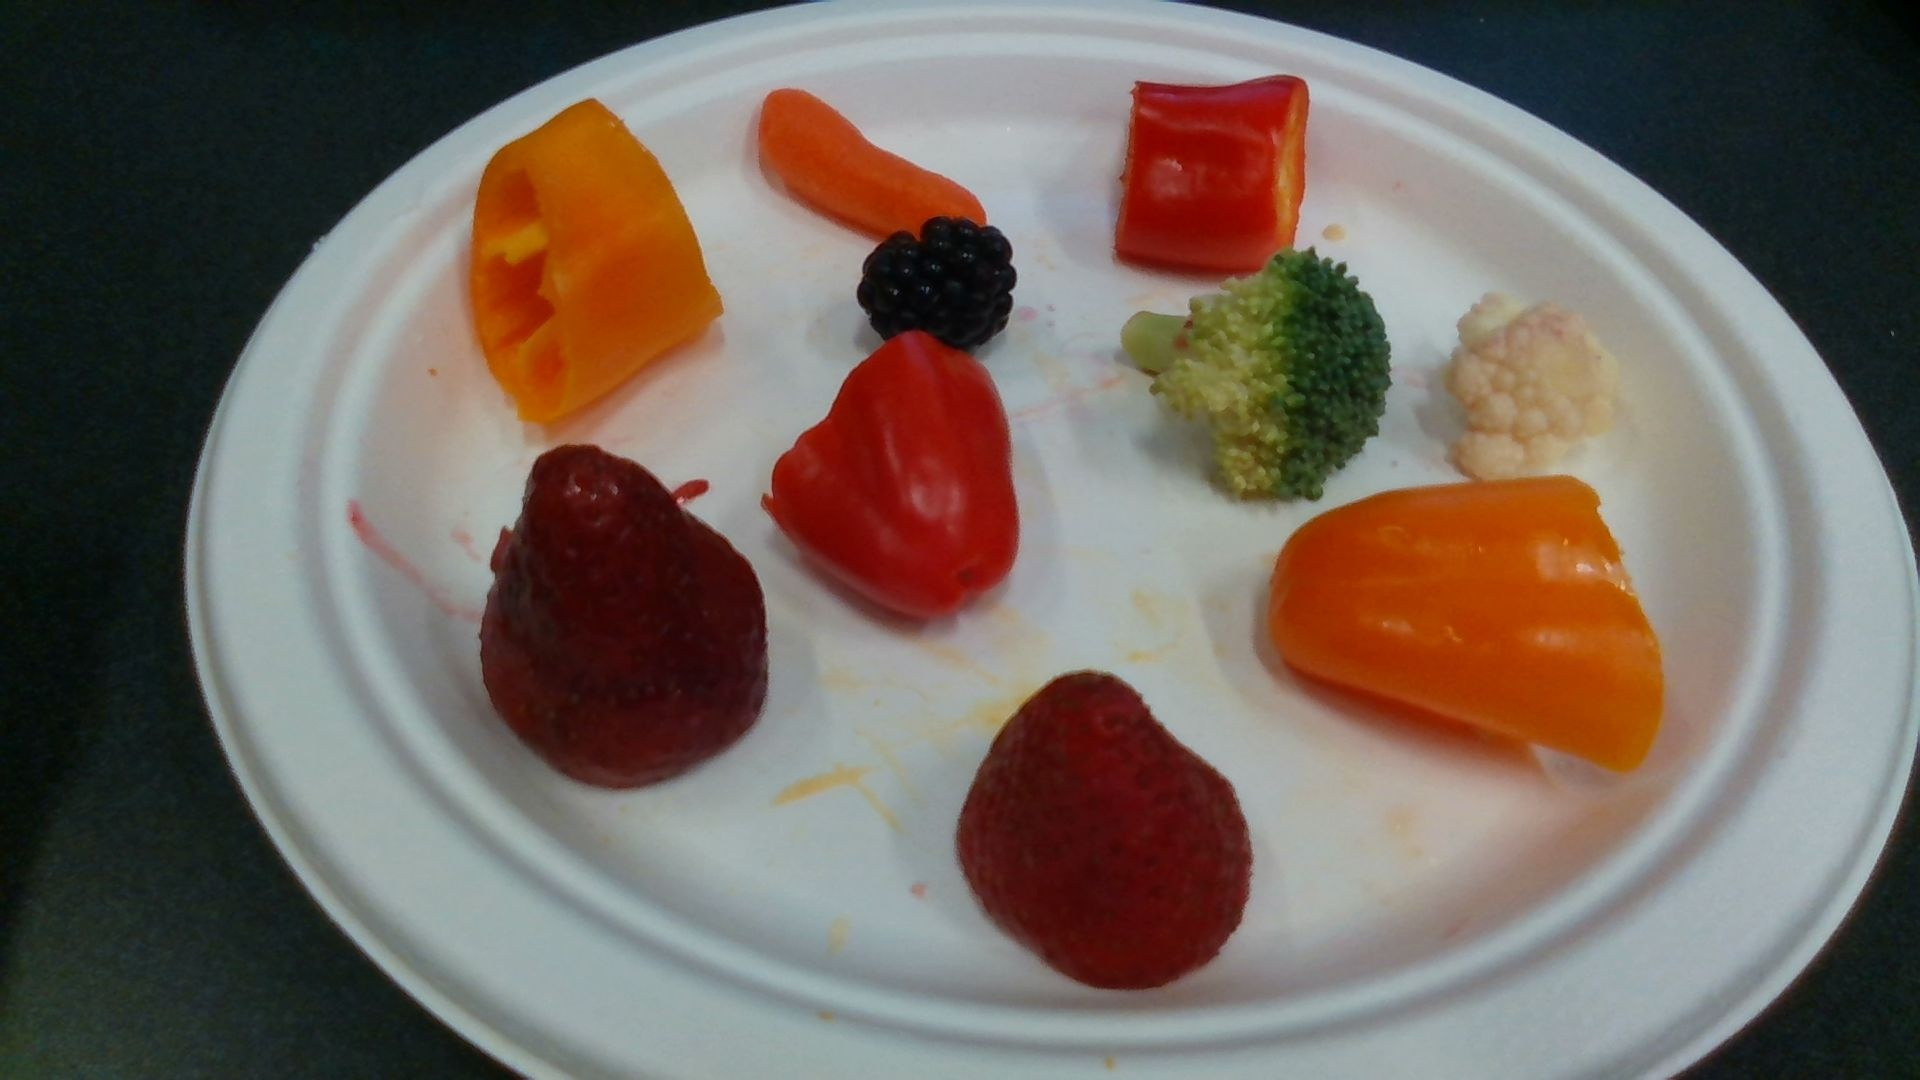bell_pepper: (1269, 477, 1664, 771), (469, 100, 717, 419), (764, 331, 1022, 621), (1117, 76, 1309, 273)
blackberry: (855, 223, 1015, 348)
broccoli: (1122, 255, 1385, 502)
carrot: (760, 90, 985, 240)
cauliflower: (1447, 295, 1619, 481)
strawberry: (479, 443, 767, 790), (960, 671, 1250, 988)
